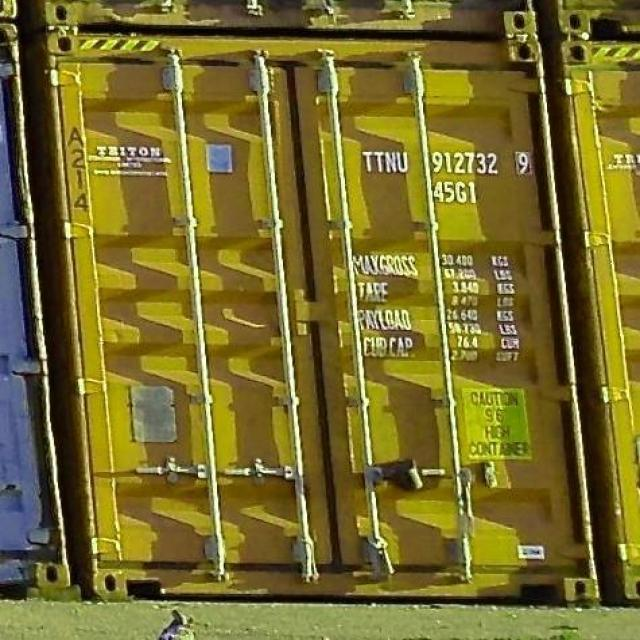ISO: (432, 178, 484, 202)
container_number: (359, 144, 531, 177)
